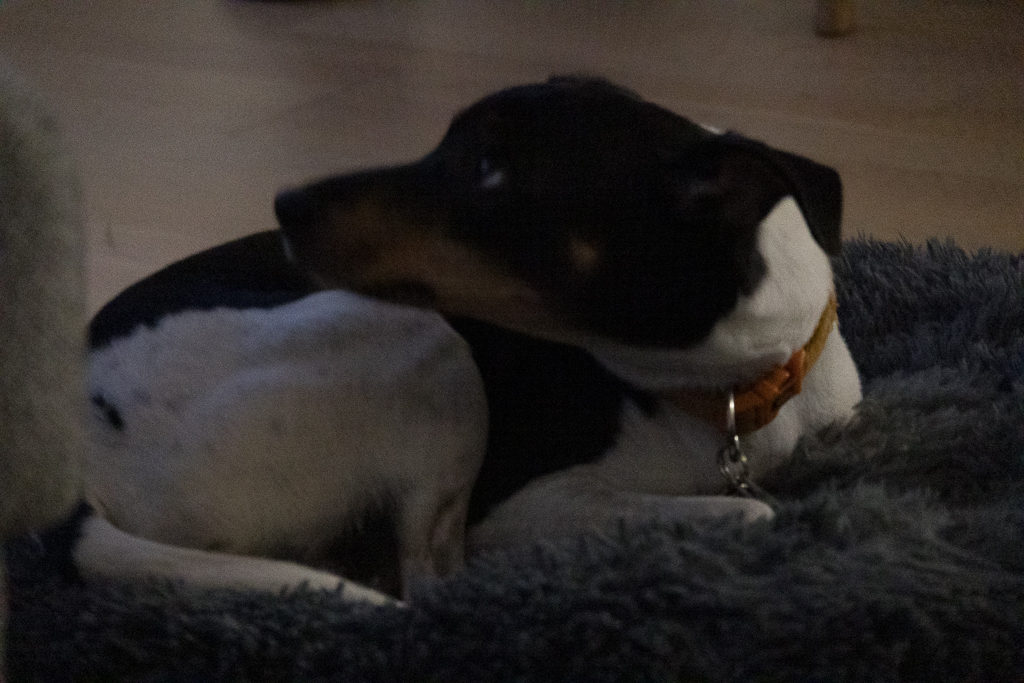Dog: (26, 57, 879, 614)
